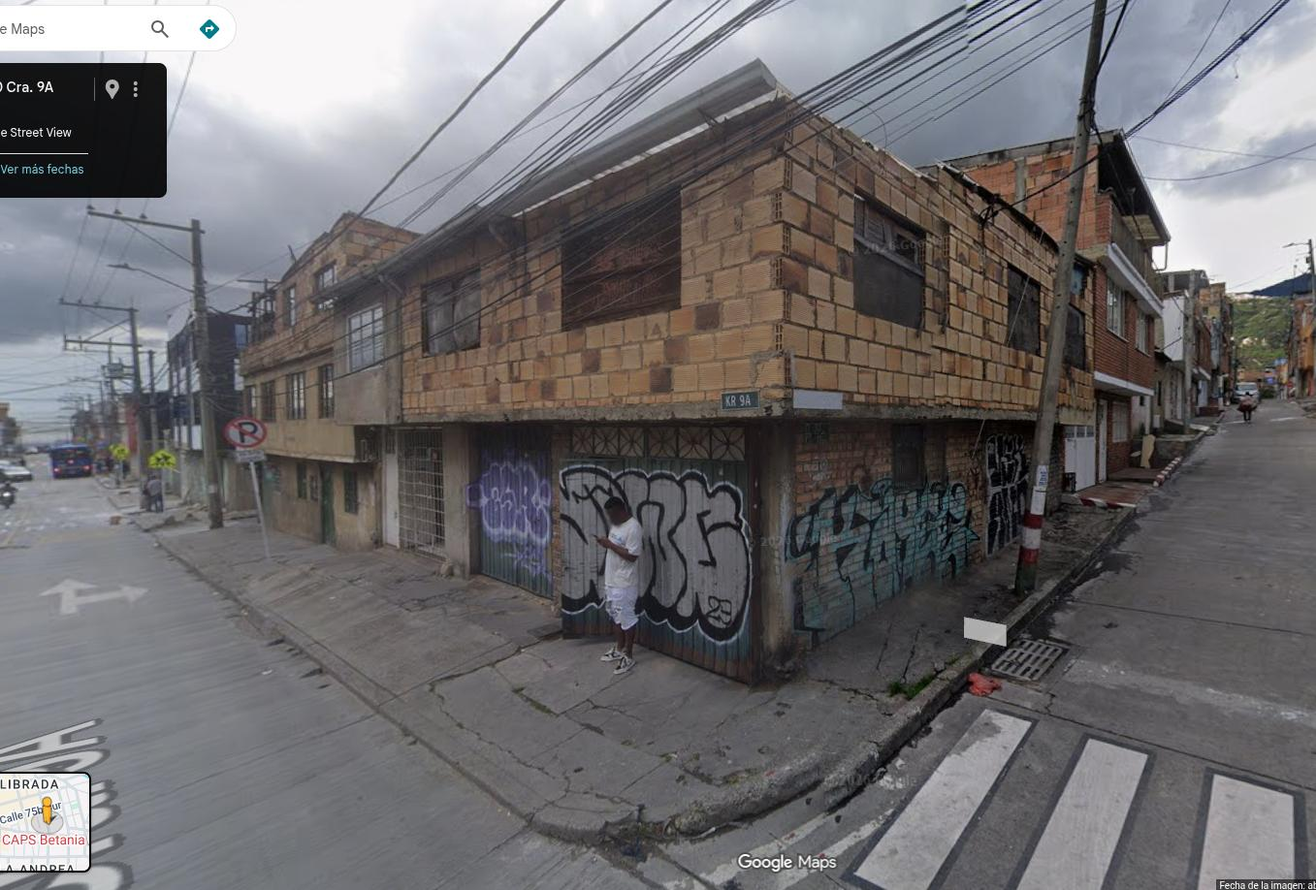casa: (402, 99, 1057, 679), (241, 213, 445, 555)
poste: (1016, 0, 1106, 594), (88, 209, 223, 528), (128, 307, 146, 475)
